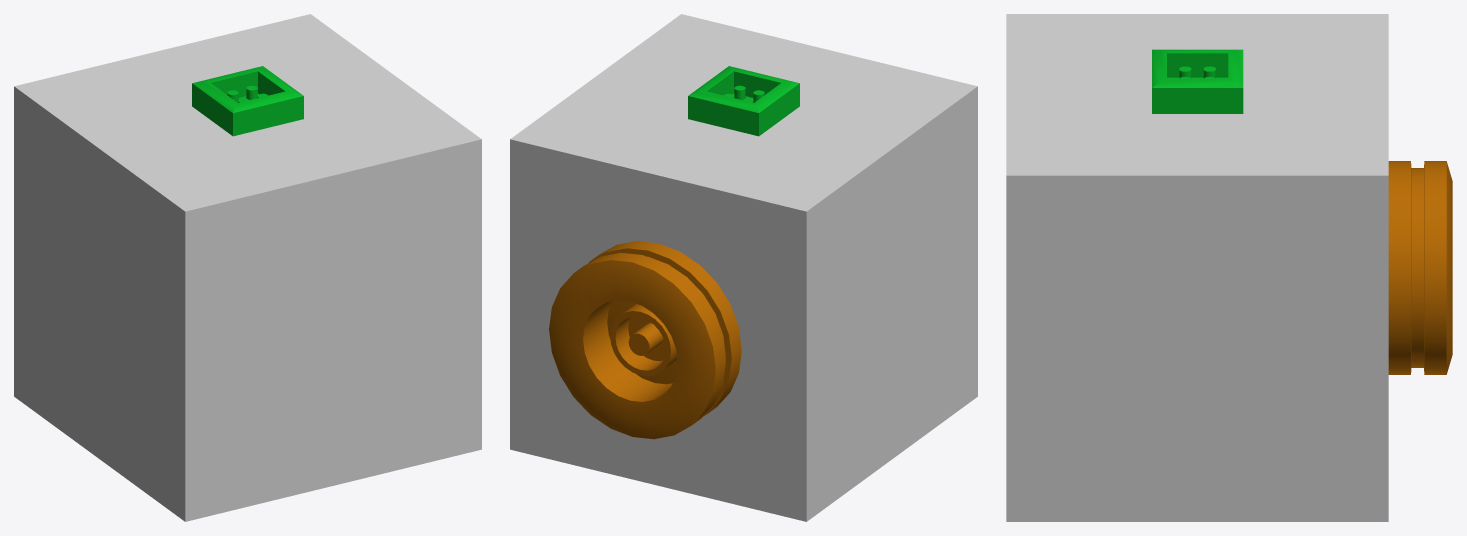
The model's file is InfiniteHV.gltf.
The picture shows the model from 3 angles, left to right: view 1: azimuth 30°, elevation 25°; view 2: azimuth 150°, elevation 25°; view 3: azimuth 270°, elevation 25°; orthographic projection. The views are drawn at different scales.
Visible parts, largest first — view 1: Cube; view 2: Cube; view 3: Cube.
Boxes of the visible parts, x1=… form: Cube: x1=14, y1=14, x2=481, y2=521; Cube: x1=510, y1=14, x2=977, y2=521; Cube: x1=1006, y1=14, x2=1452, y2=521.
Size of the model in its own units: 0.25 by 0.2706 by 0.2917.
